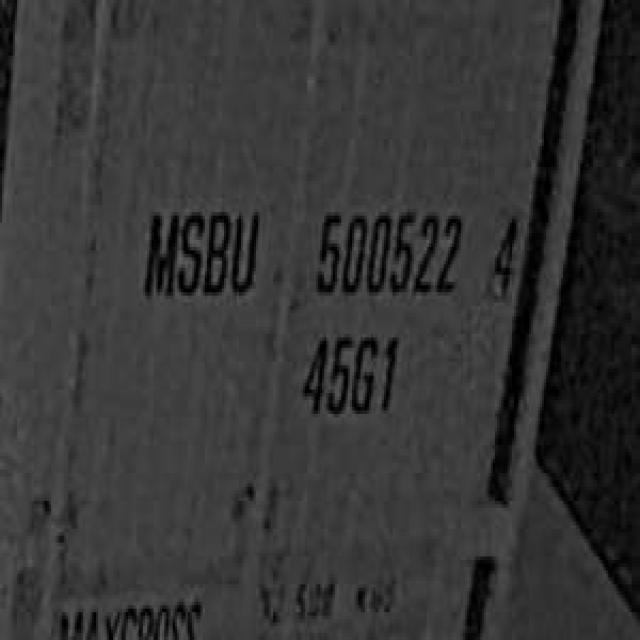dv: (484, 195, 523, 306)
owner: (136, 195, 262, 306)
serial: (312, 191, 465, 303)
size: (297, 320, 403, 428)
